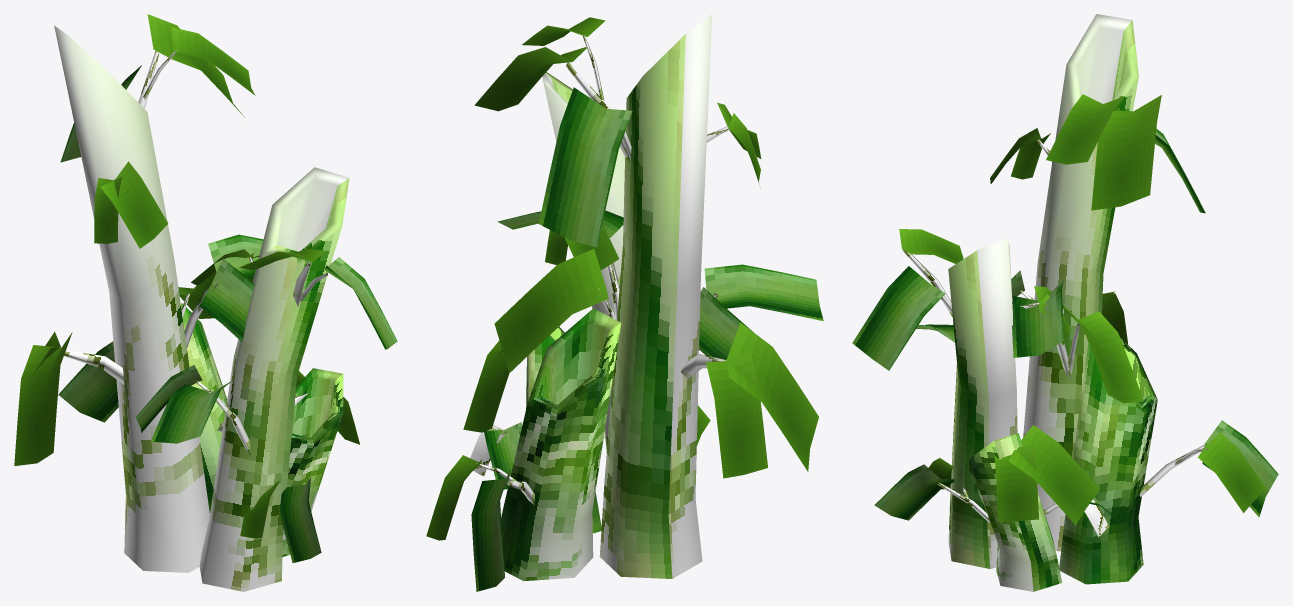
The model's file is botany_000014_02.FBX.
3 views of the same model, side by side, from view 1: azimuth 30°, elevation 25°; view 2: azimuth 150°, elevation 25°; view 3: azimuth 270°, elevation 25° (orthographic). The views are drawn at different scales.
Parts seen in each view (by area): view 1: botany_000014_02; view 2: botany_000014_02; view 3: botany_000014_02.
Boxes of the visible parts, x1=… form: botany_000014_02: x1=14, y1=14, x2=397, y2=591; botany_000014_02: x1=426, y1=14, x2=823, y2=591; botany_000014_02: x1=852, y1=14, x2=1278, y2=591.
Bounding box in the file's own units: 55.11 × 88.92 × 70.75.
